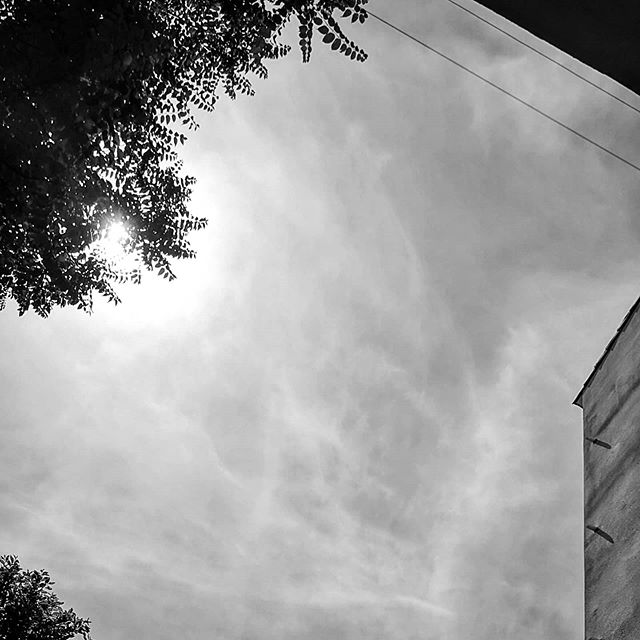building: (571, 261, 640, 640)
sky: (20, 18, 640, 639)
tree: (1, 1, 286, 310)
